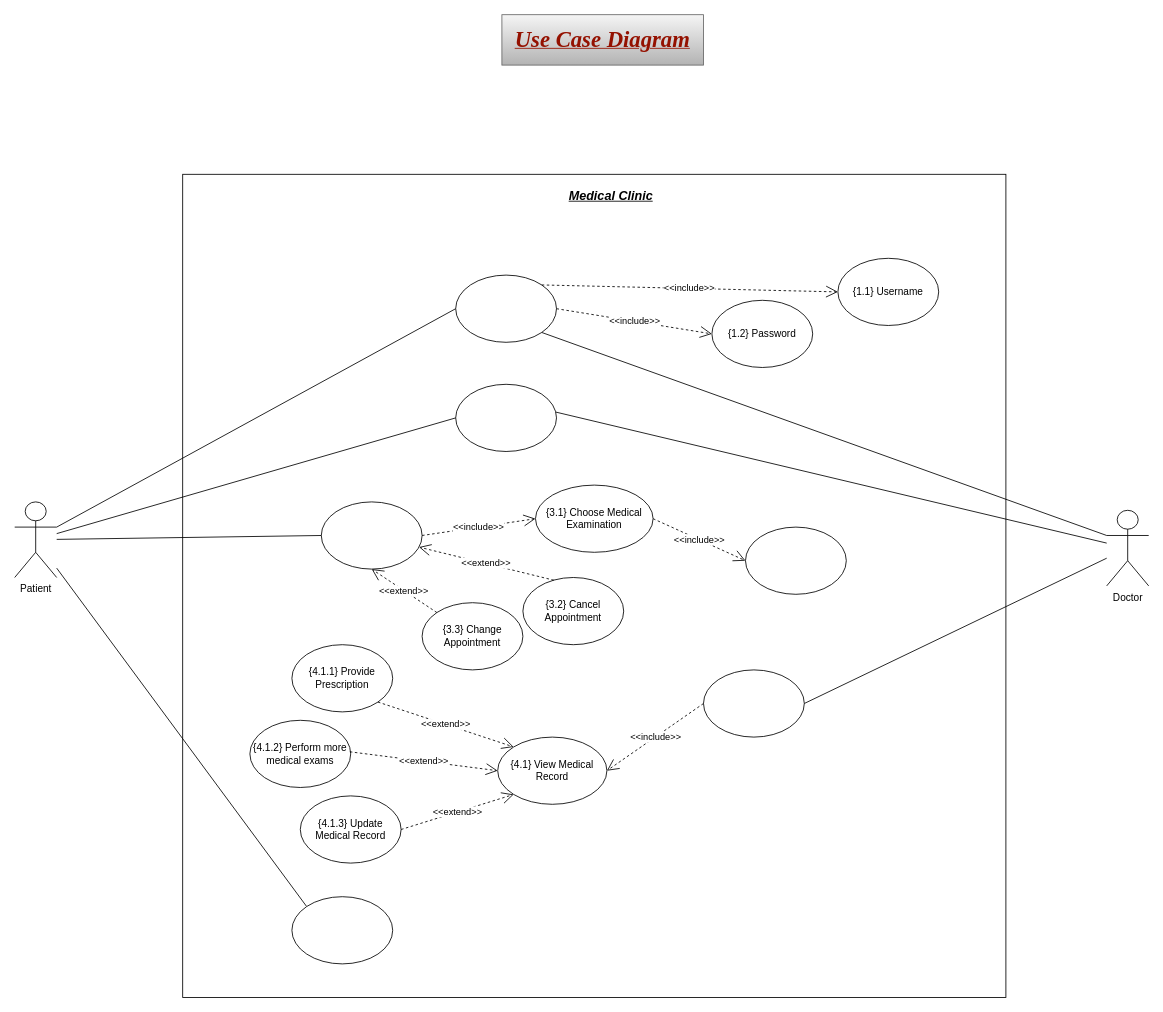
Image size: 1163x1012. Some labels were removed from this diagram. The centre of each missing label's shape, as x and y in pixels:
{1} login: the point at 505,308
{2} View Appointments: the point at 505,417
{3.1.1} Choose Appointment Date: the point at 795,560
{3} Book Appointment: the point at 371,535
{4} Exam Patient: the point at 753,703
{5} Pay Bill: the point at 342,930
